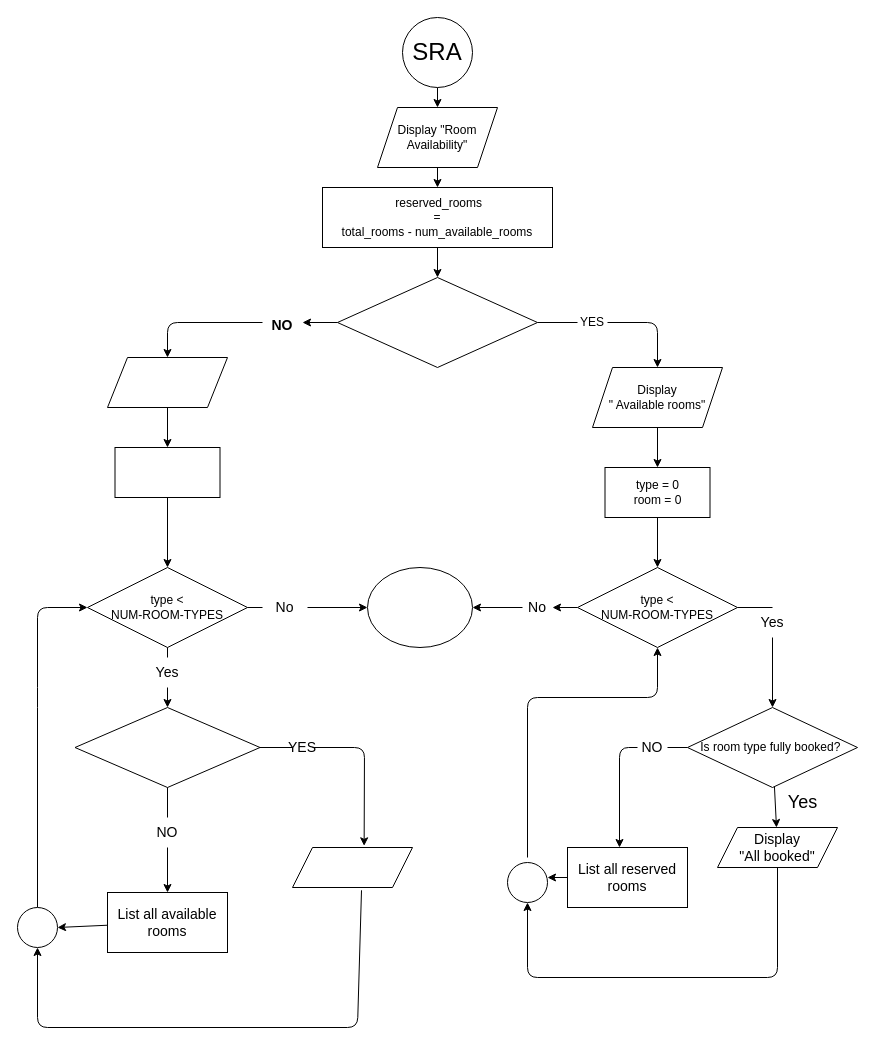
Image size: 875x1053. Some labels were removed from this diagram. Each missing label, with the centre of its shape:
Display "All available": (352,867)
Display "Reserved rooms": (167,382)
END: (419,607)
Is room type fully available?: (167,747)
reserved_rooms > available rooms?: (437,322)
room = 0 type = 0: (167,472)
